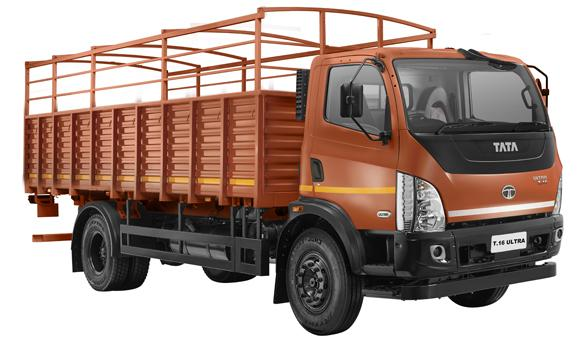truck: (23, 7, 562, 336)
